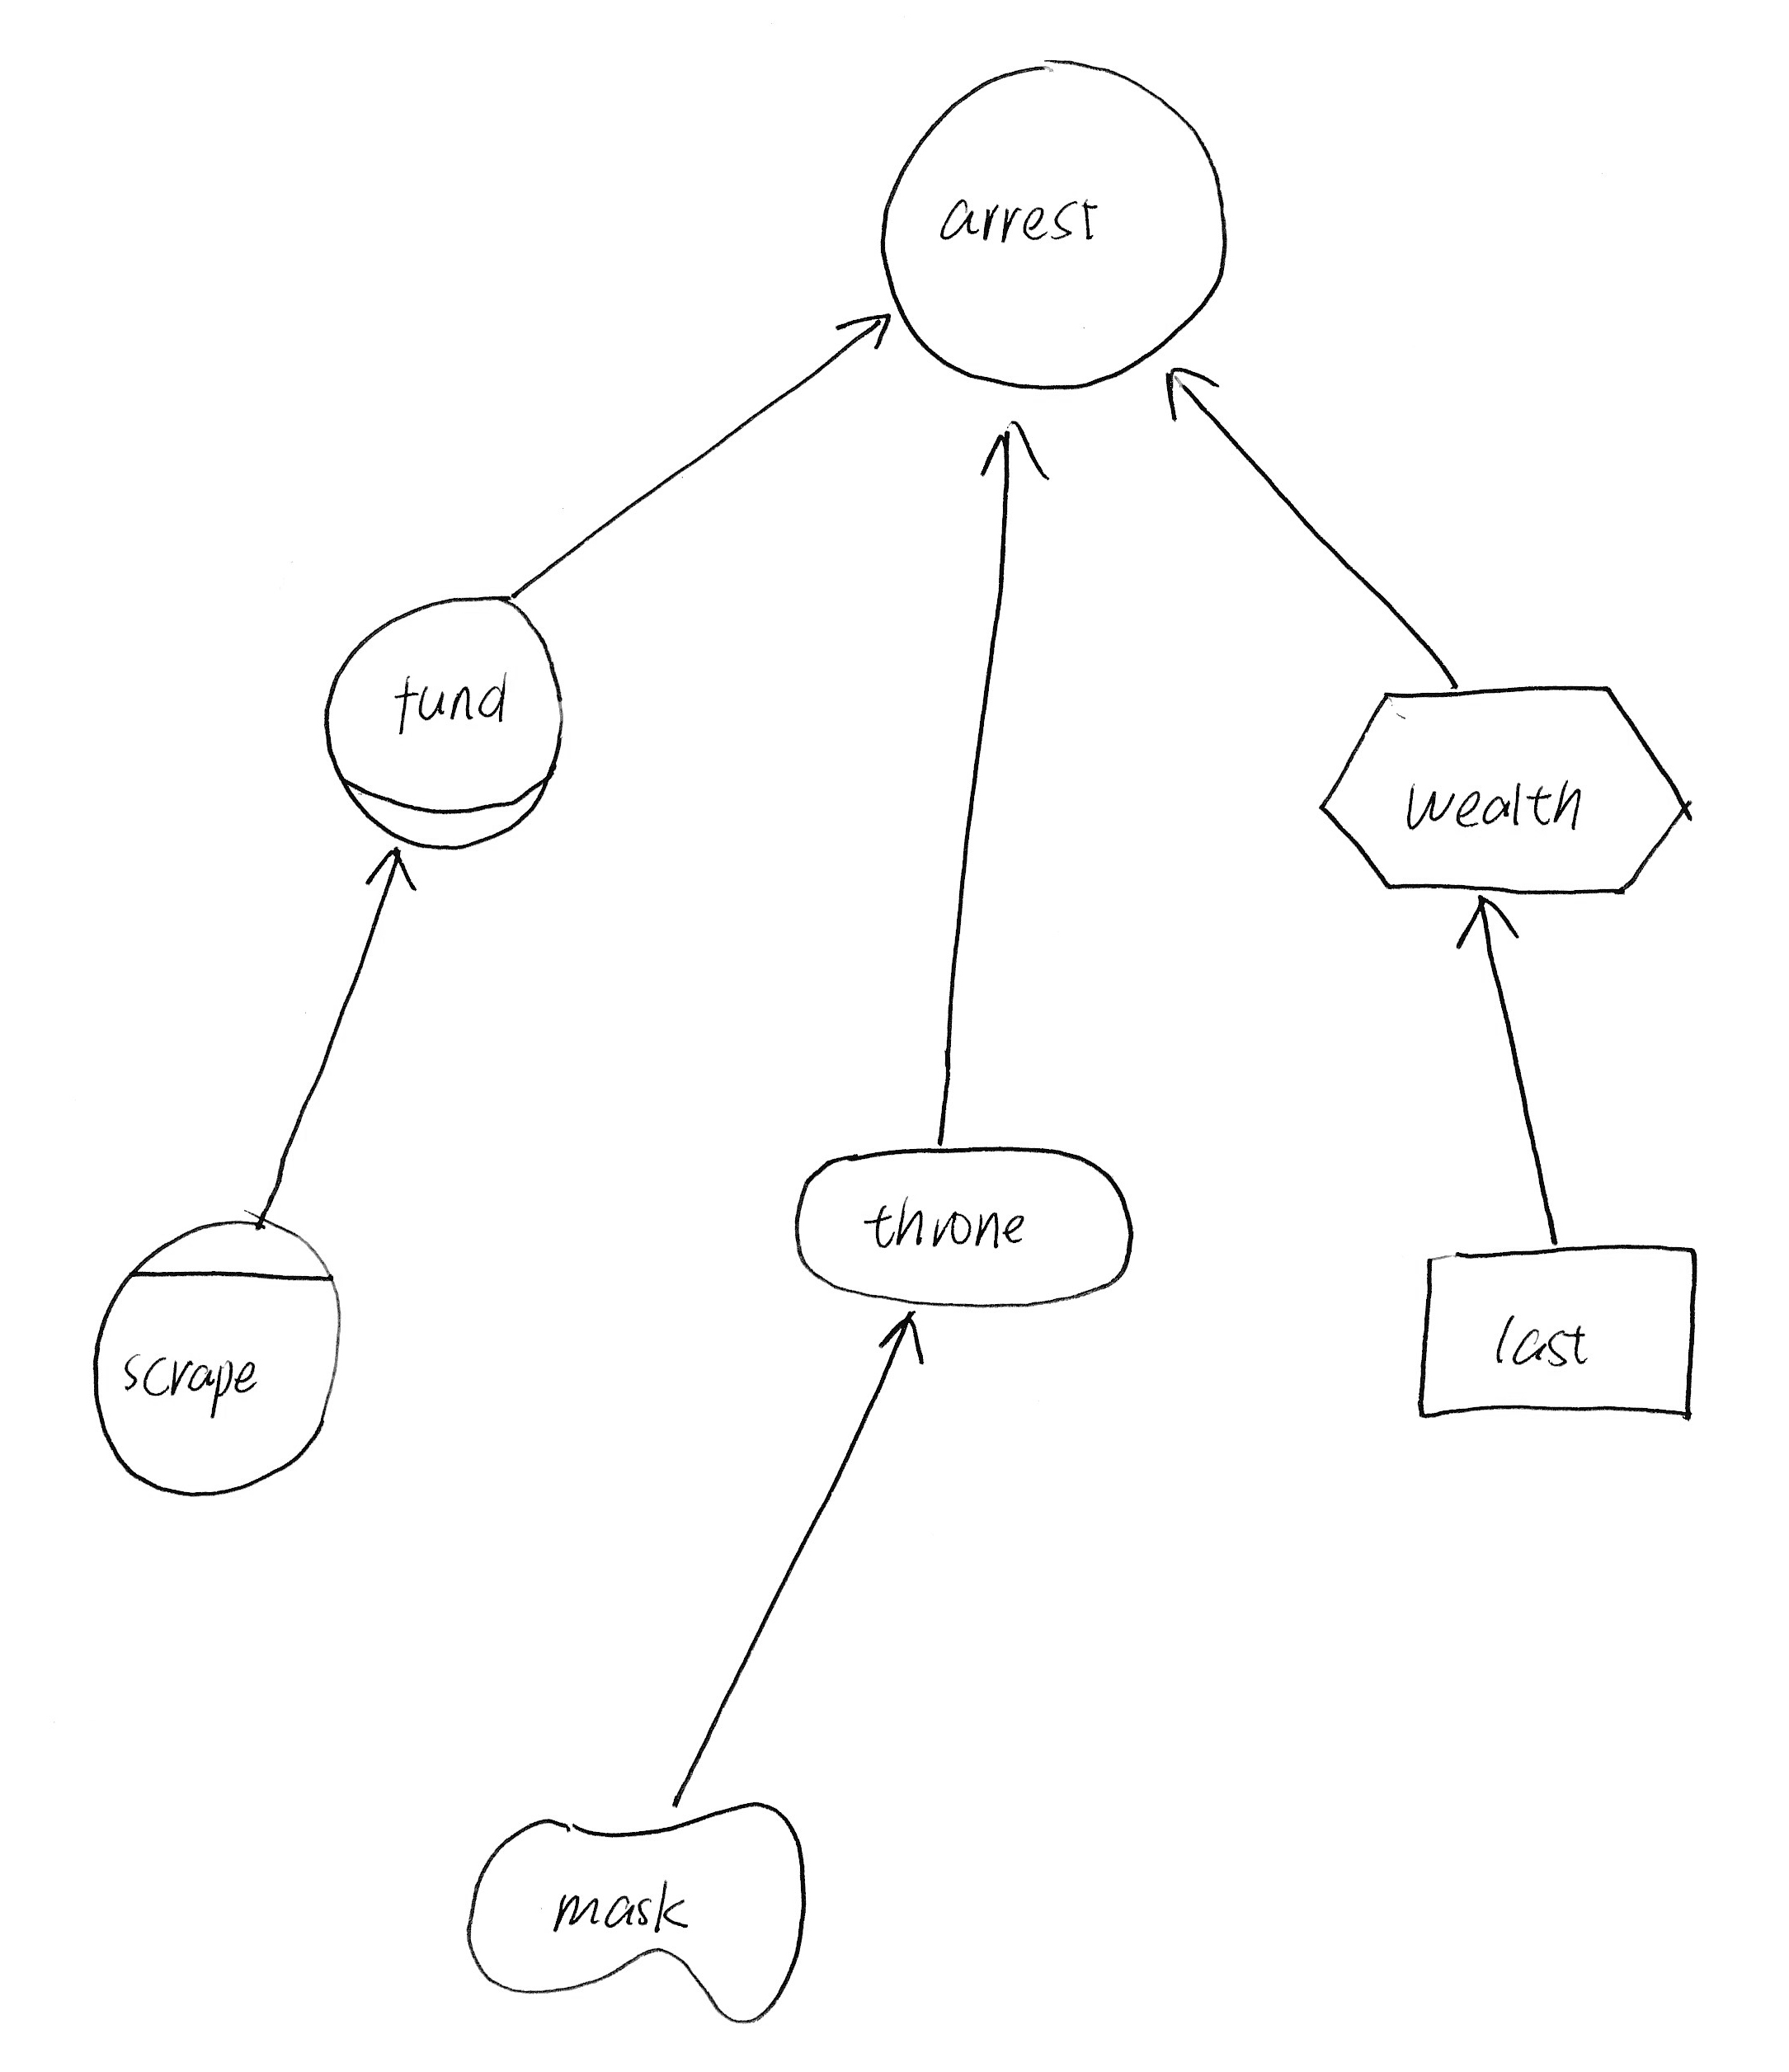actor: (864, 41, 1246, 411)
agent: (71, 1193, 360, 1515)
arrow: (971, 400, 1068, 509), (1440, 874, 1532, 969), (1147, 352, 1234, 448), (865, 1291, 948, 1381), (356, 830, 427, 907), (828, 291, 904, 359)
goal: (770, 1126, 1156, 1336)
quality: (444, 1787, 825, 2031)
resource: (1389, 1223, 1724, 1445)
role: (307, 581, 583, 874)
task: (1308, 662, 1710, 920)
